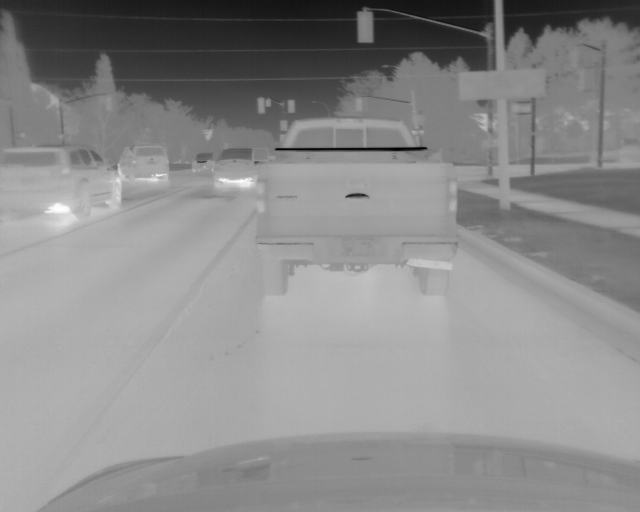car: (252, 115, 458, 297), (1, 144, 123, 218), (211, 145, 268, 190), (117, 143, 169, 187), (189, 151, 216, 172)
